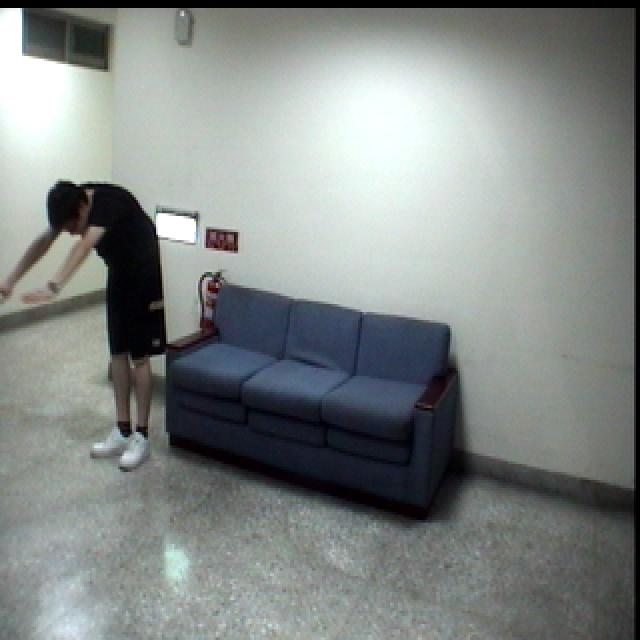bend: (0, 171, 170, 482)
